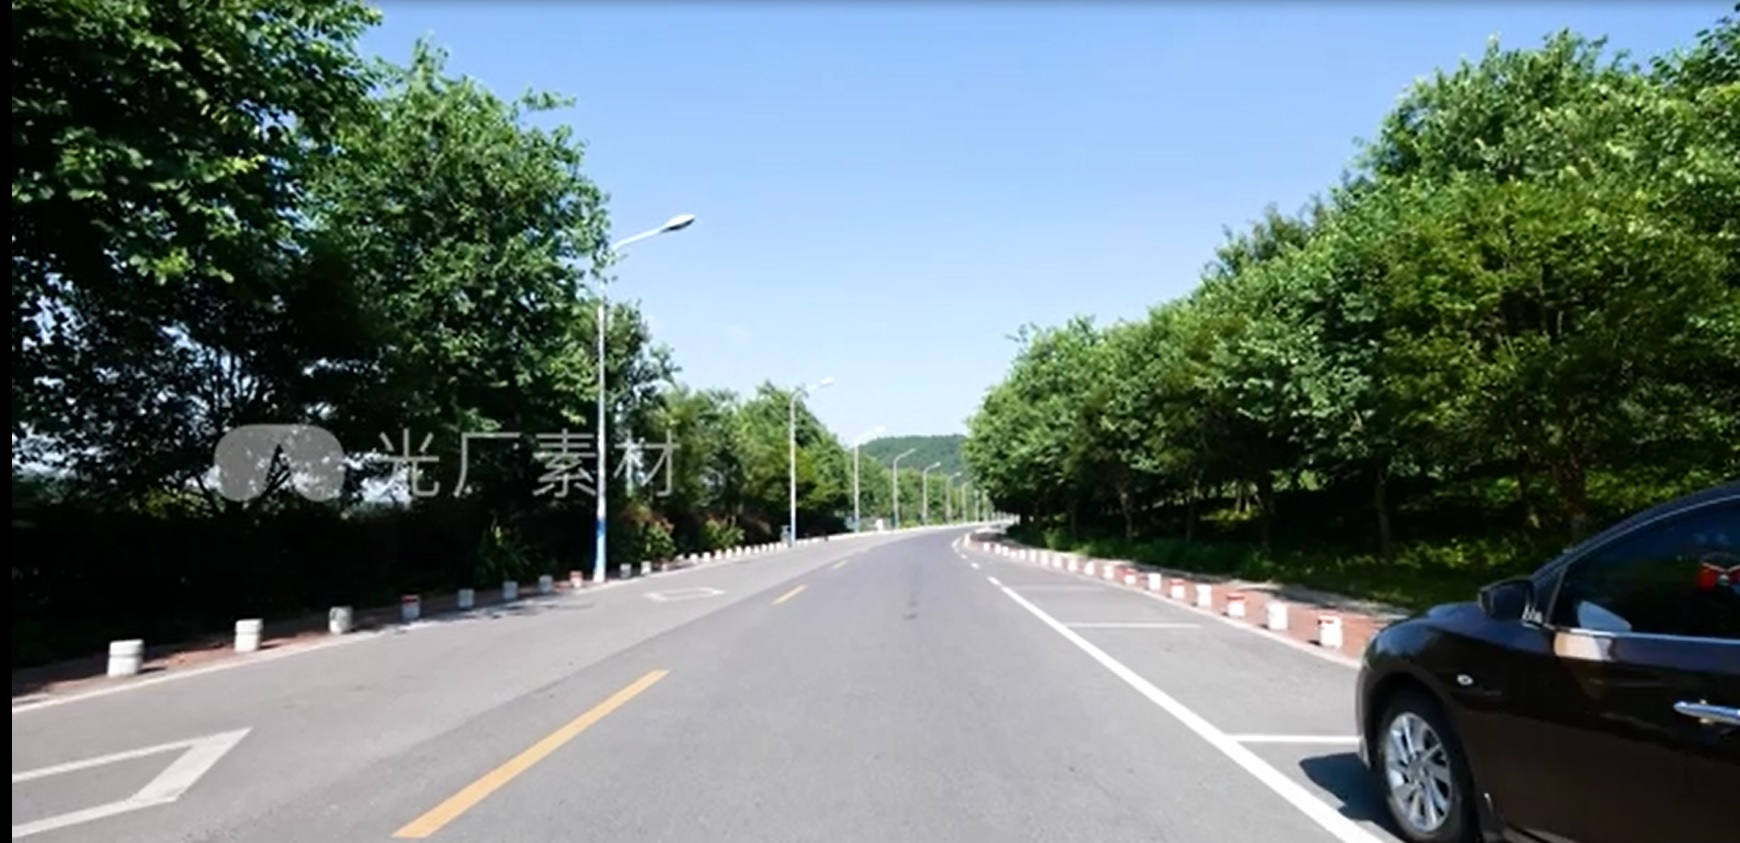slot_nocar: (1035, 600, 1454, 766), (991, 563, 1230, 651)
